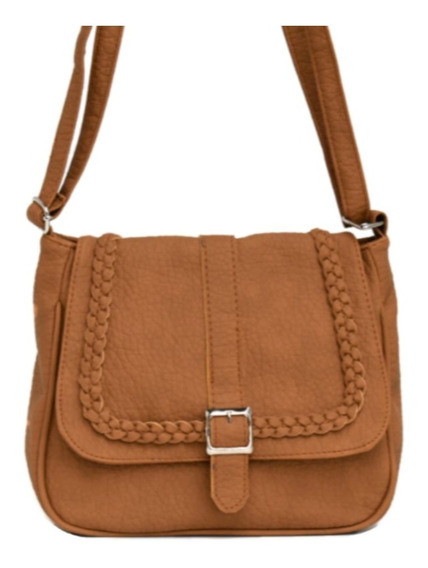cartera: (21, 215, 404, 542)
